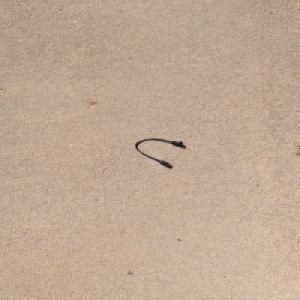Wire: (133, 137, 183, 167)
